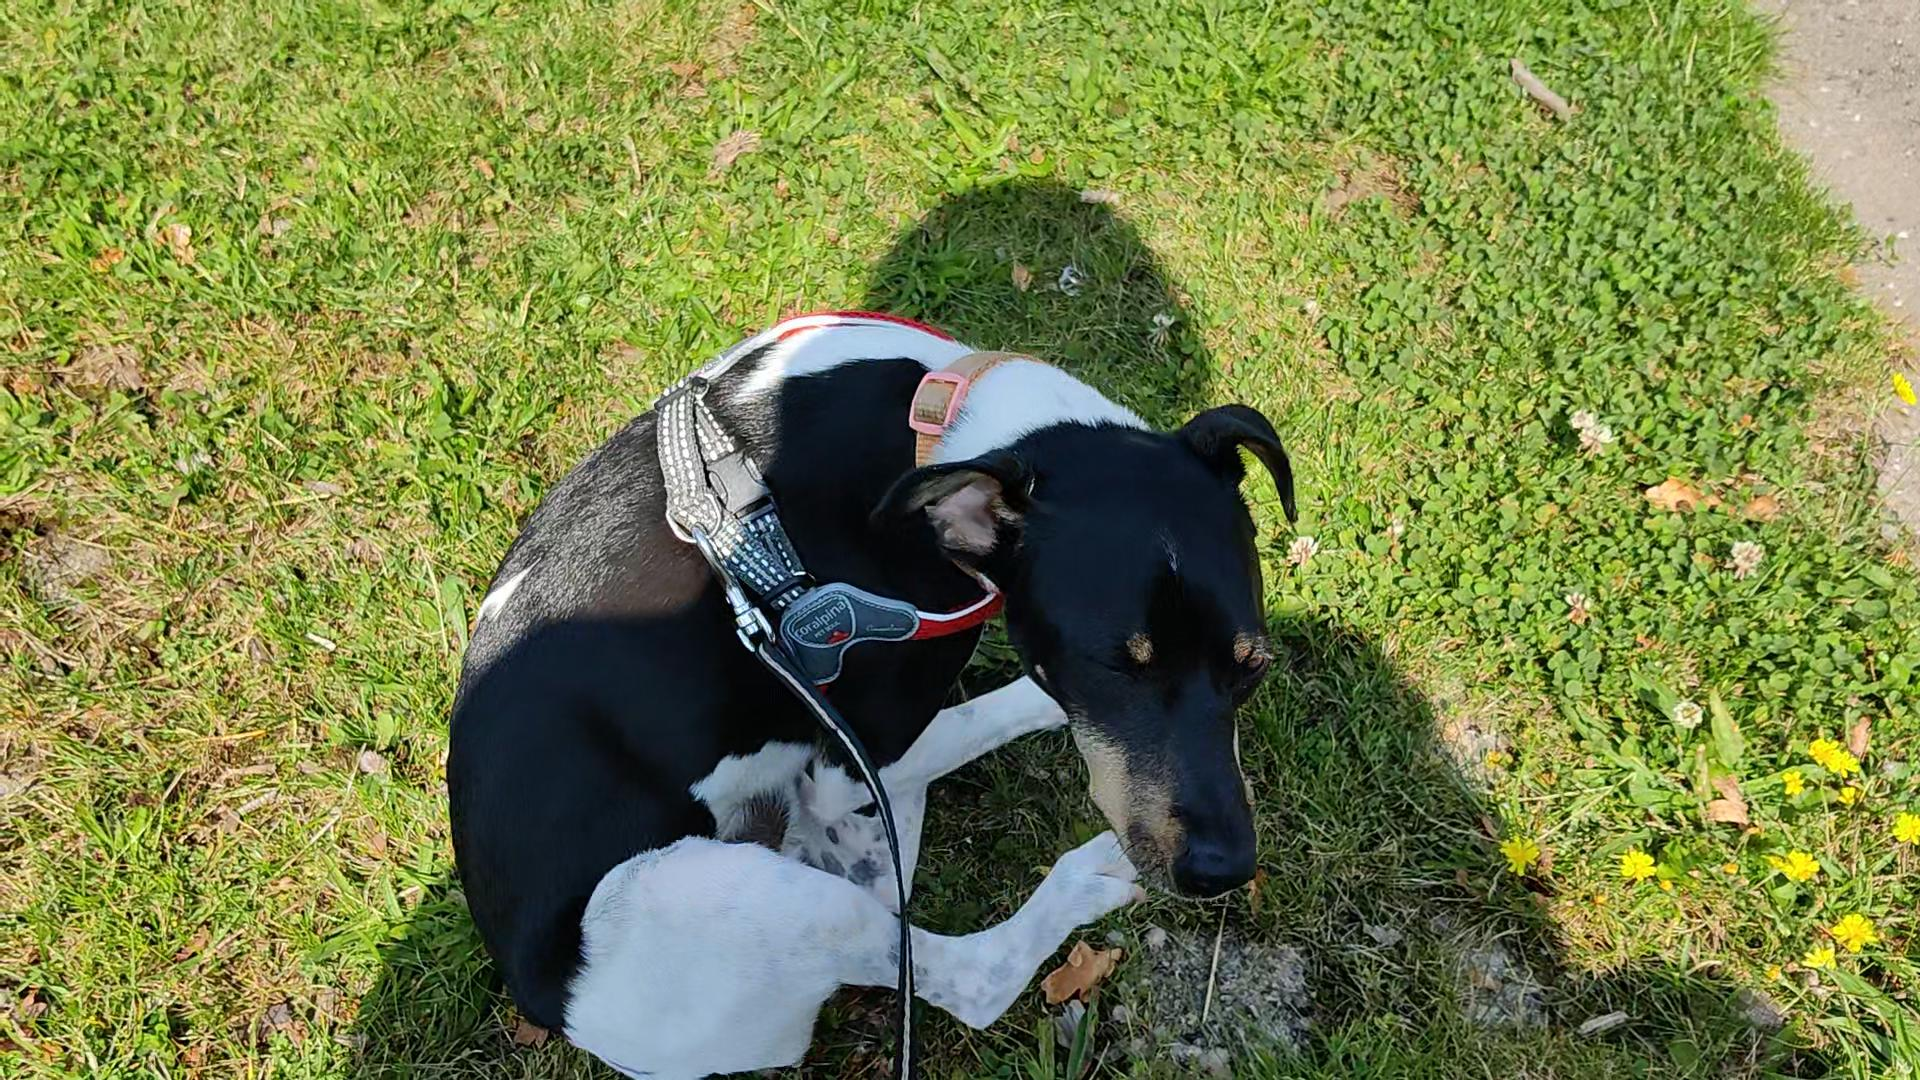Dog: (443, 290, 1316, 1079)
